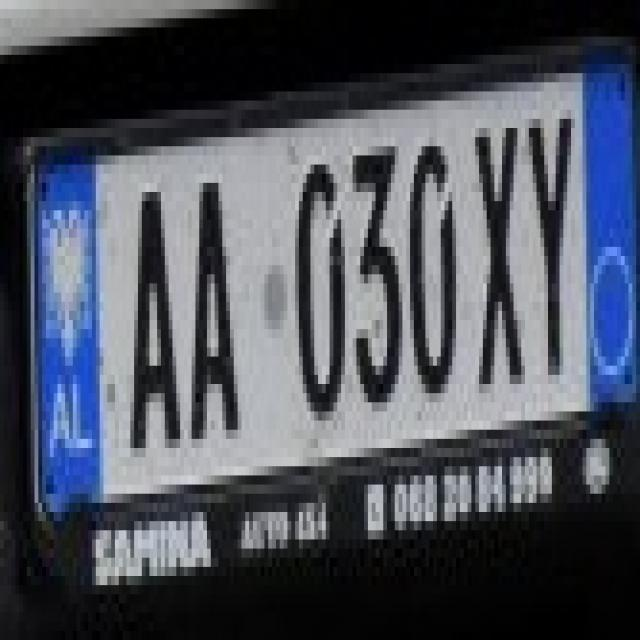0: (280, 137, 352, 412), (398, 119, 460, 384)
3: (340, 119, 402, 402)
A: (107, 155, 188, 448), (172, 155, 245, 439)
X: (460, 91, 525, 375)
Y: (514, 82, 578, 375)
